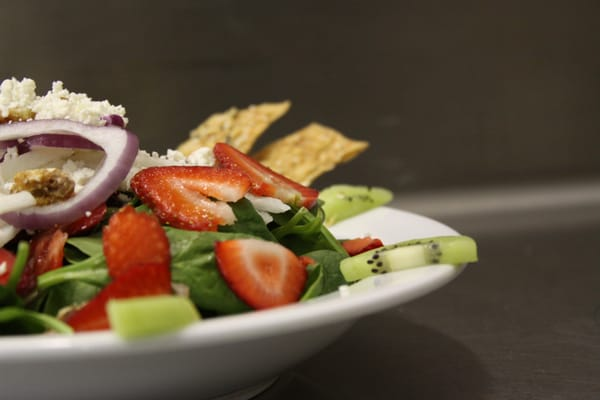sushi: (0, 128, 479, 393)
